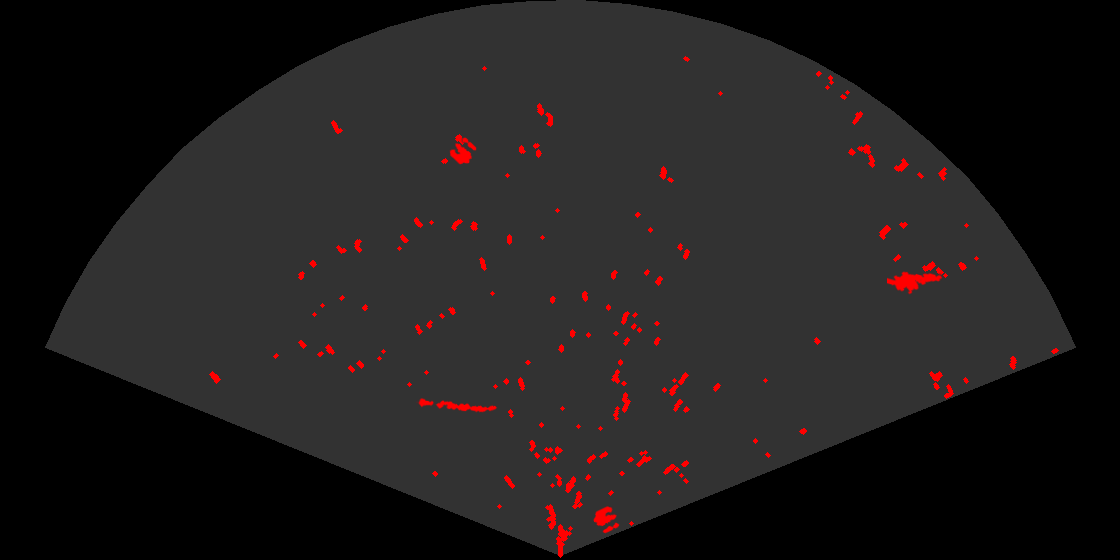ball: (448, 136, 478, 166), (592, 505, 621, 535)
chain: (416, 397, 498, 414)
frogman: (887, 270, 943, 296)
